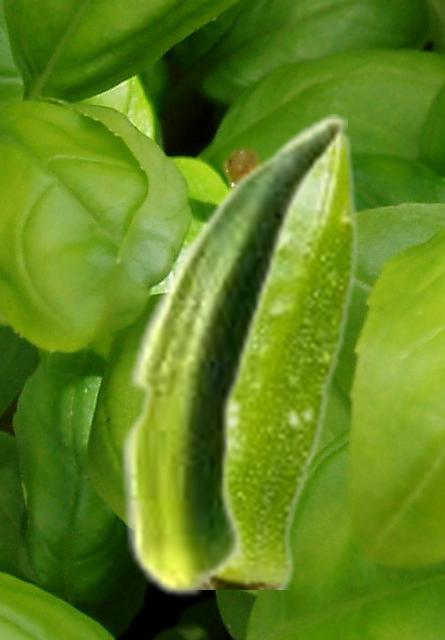okra: (119, 114, 346, 598), (206, 127, 359, 588)
